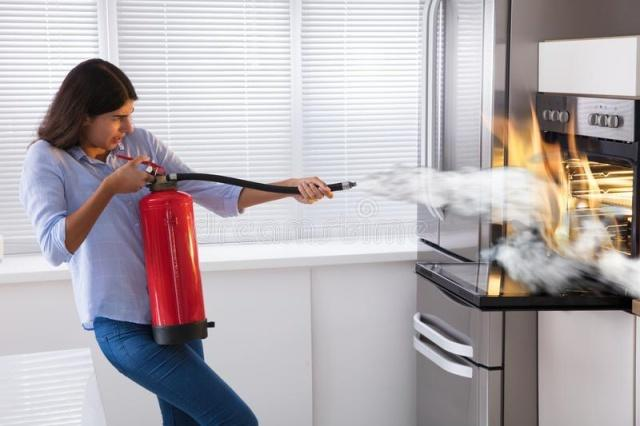APAR: (139, 163, 208, 347)
